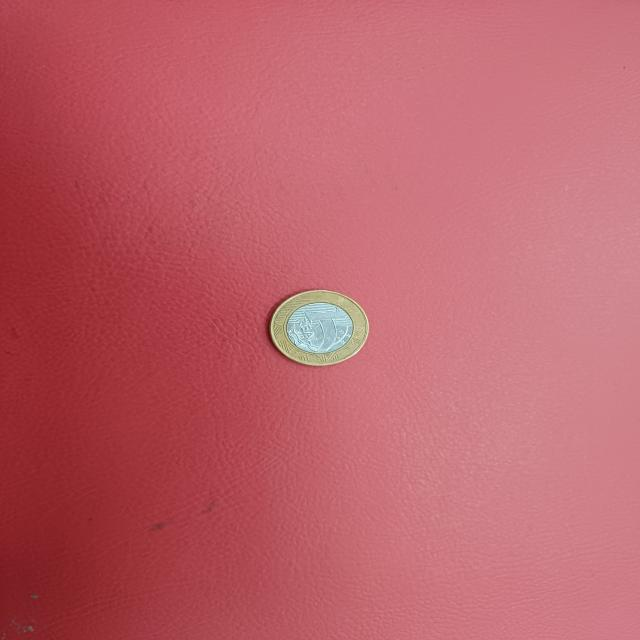1 real: (270, 286, 372, 365)
